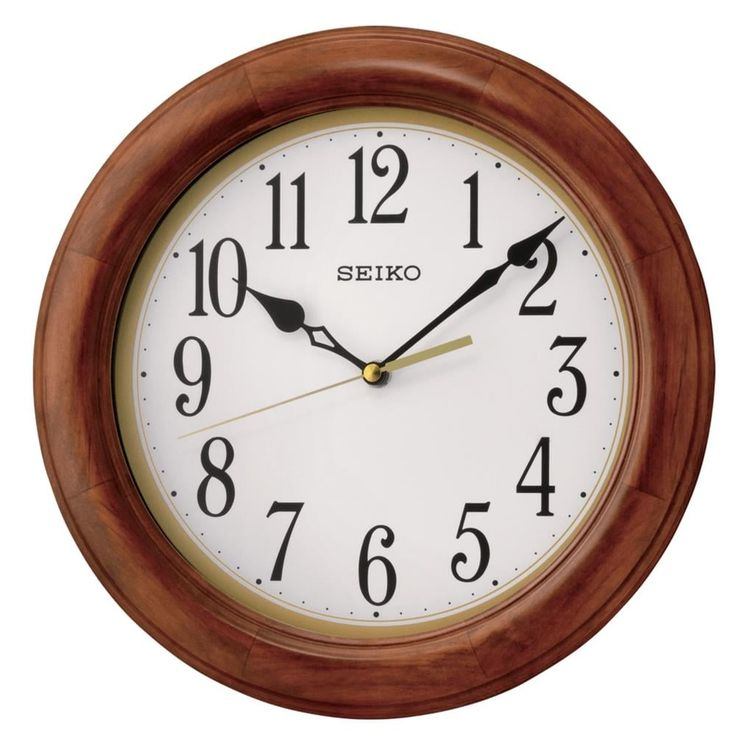clock: (7, 1, 736, 736)
